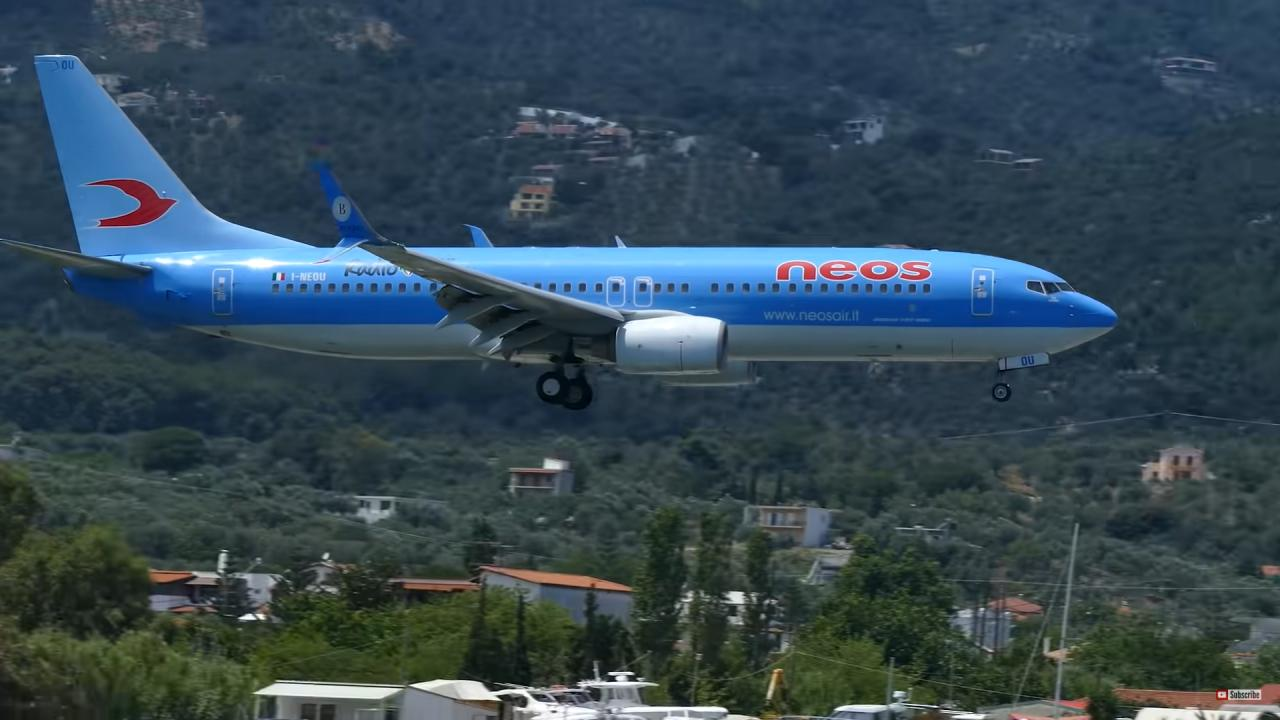Airplane: (1, 48, 1153, 424)
